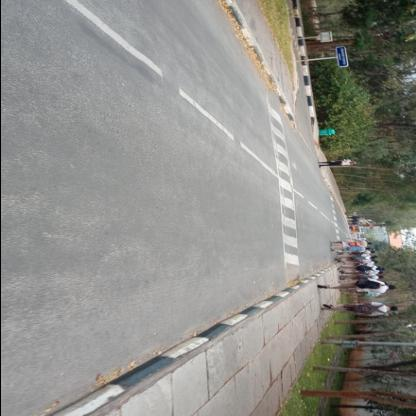speed-bumps: (260, 96, 311, 278), (326, 193, 346, 239)
